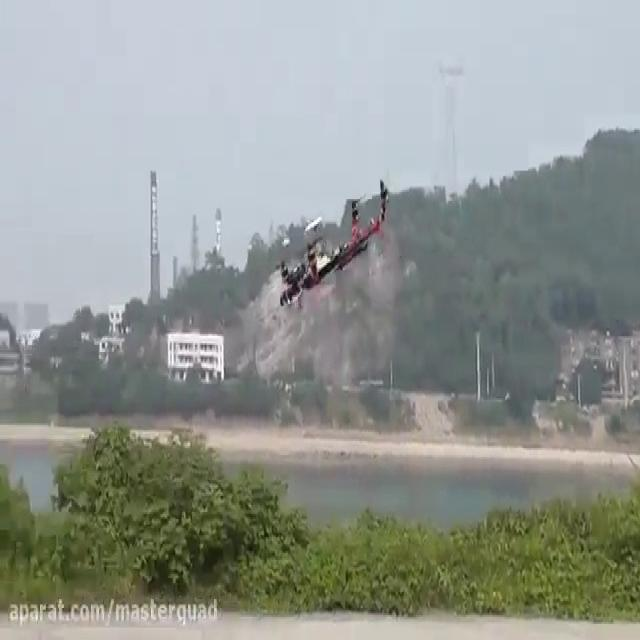drone: (271, 172, 392, 314)
